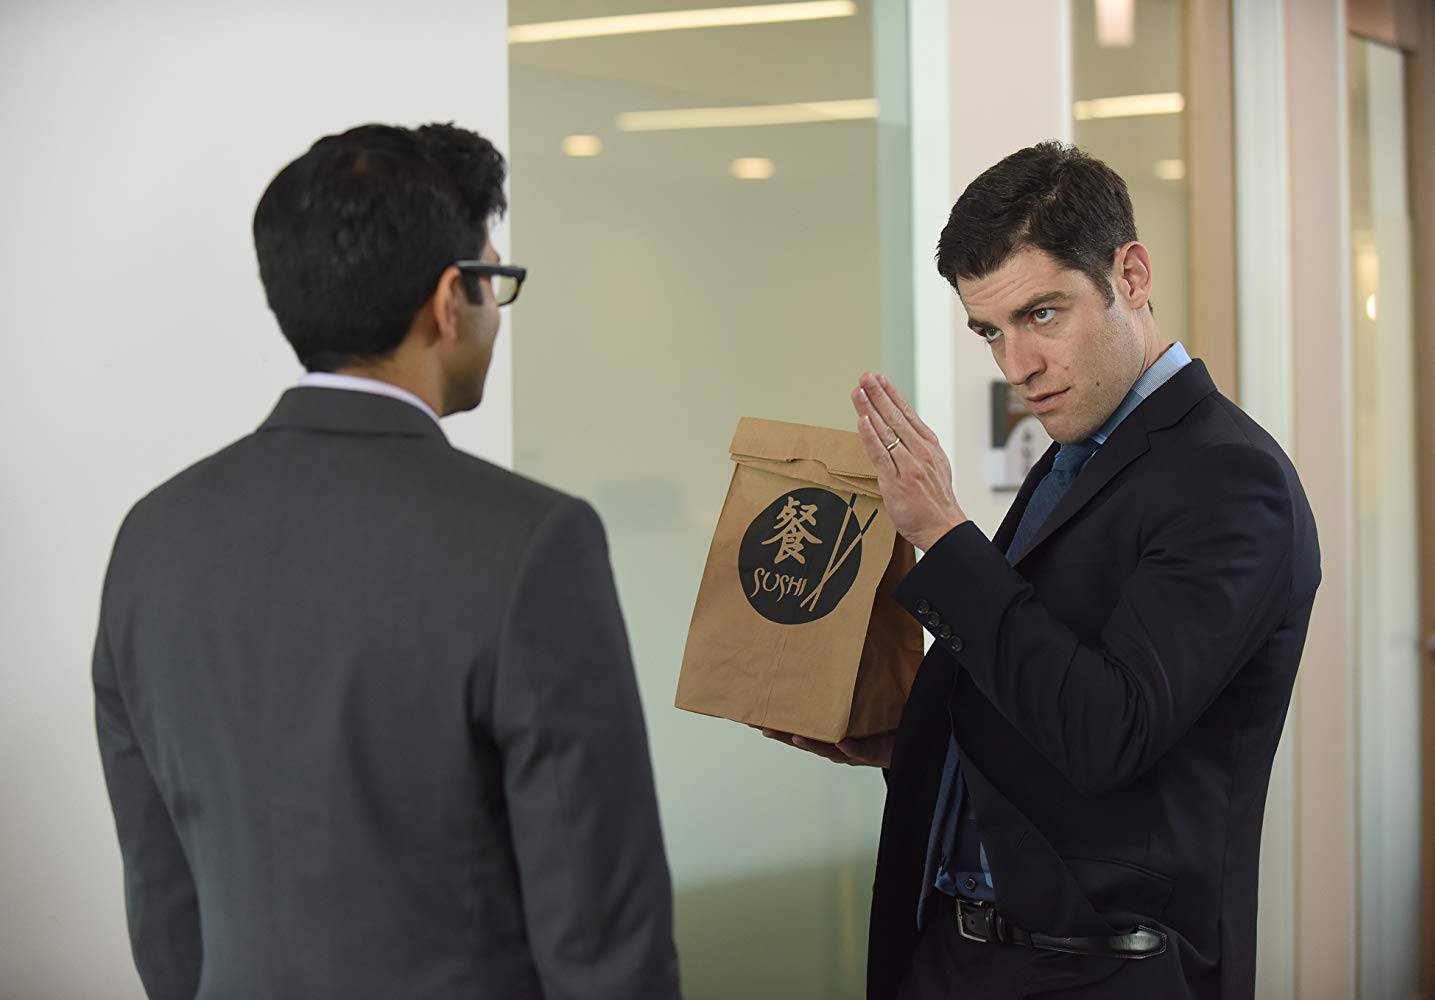person: (93, 118, 692, 997), (854, 137, 1266, 999)
